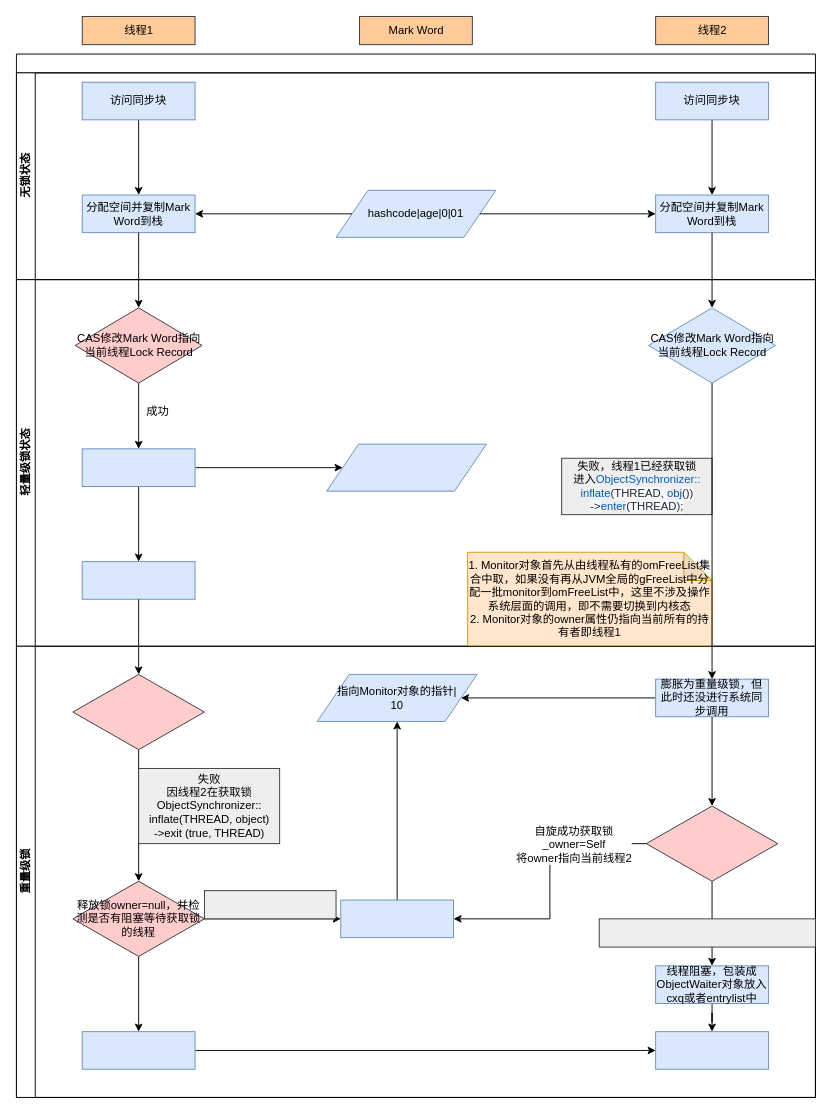
Image size: 832x1114. Some labels were removed from this diagram. The shapes that lost their labels are listed below. From the top down, each one's centre as x and y in pixels, then its label:
At (x=138, y=467): "将Mark Word替换为轻量级锁".
At (x=406, y=467): "指向Lock Record的指针| 00".
At (x=138, y=580): "执行同步代码块".
At (x=138, y=712): "同步代码执行完，CAS将Lock Record中的Displaced Mark Word替换到Mark Word".
At (x=711, y=843): "自旋等待获取锁".
At (x=270, y=904): "无阻塞等待的线程 即cxq和entrylist为null".
At (x=397, y=918): "无阻塞等待 线程2自旋获取锁成功".
At (x=706, y=932): "自旋获取锁失败，此时需要切换到内核态 调用系统park函数挂起当前线程".
At (x=138, y=1050): "有阻塞线程，执行唤醒策略".
At (x=711, y=1050): "线程被唤醒，重新争夺锁访问同步代码块".
